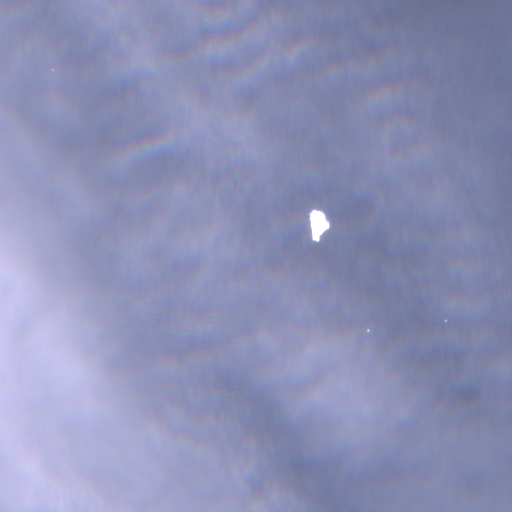Iceberg: (310, 210, 329, 241), (367, 329, 369, 331), (445, 319, 446, 321), (52, 69, 53, 70)
